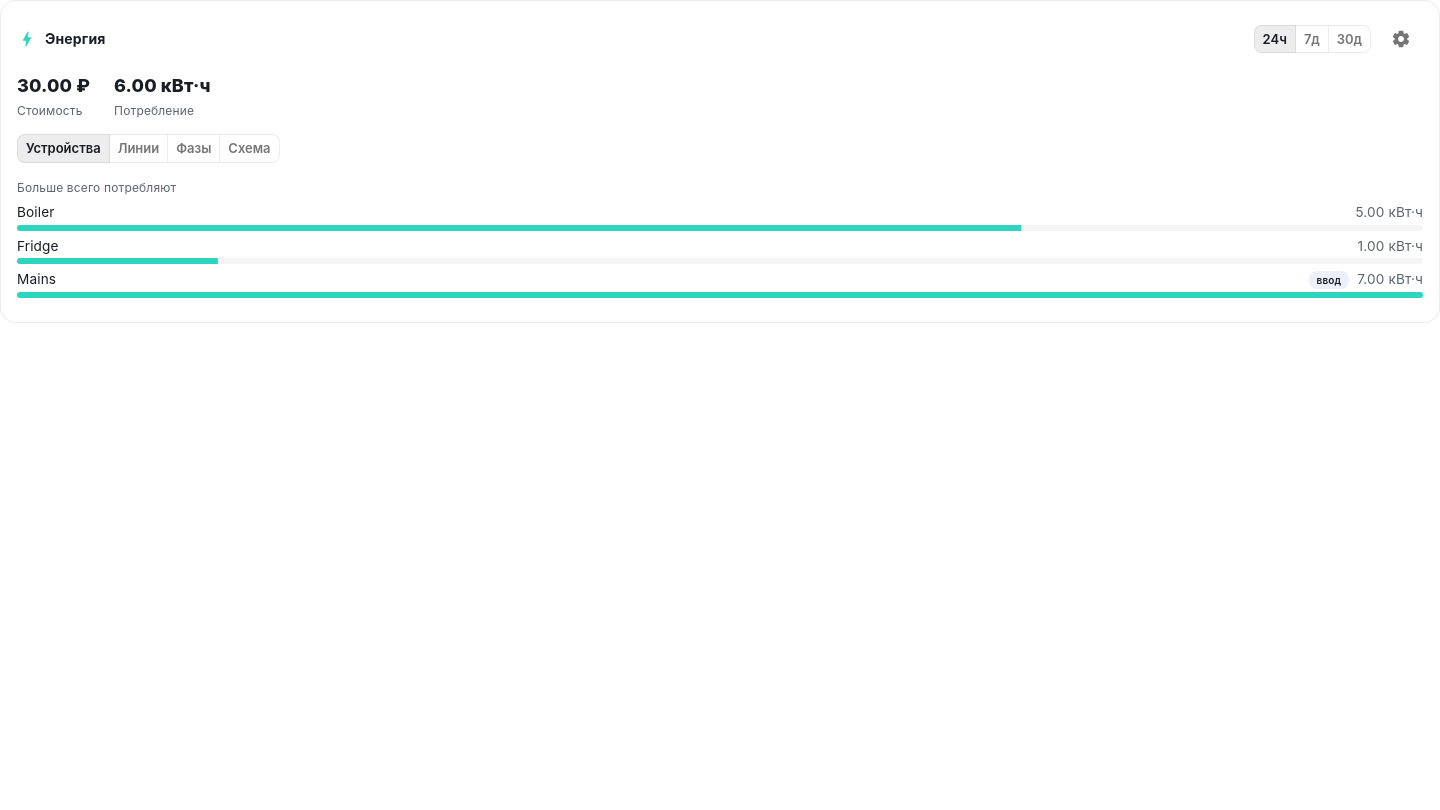
it: EnergyTile › offers the sunburst scheme view once the topology exists
The image size is (1440, 810).
What coordinates should you click on to do the following:
click the button "Схема"
I would click on:
 (249, 149)
Its box is [219,134,280,163].
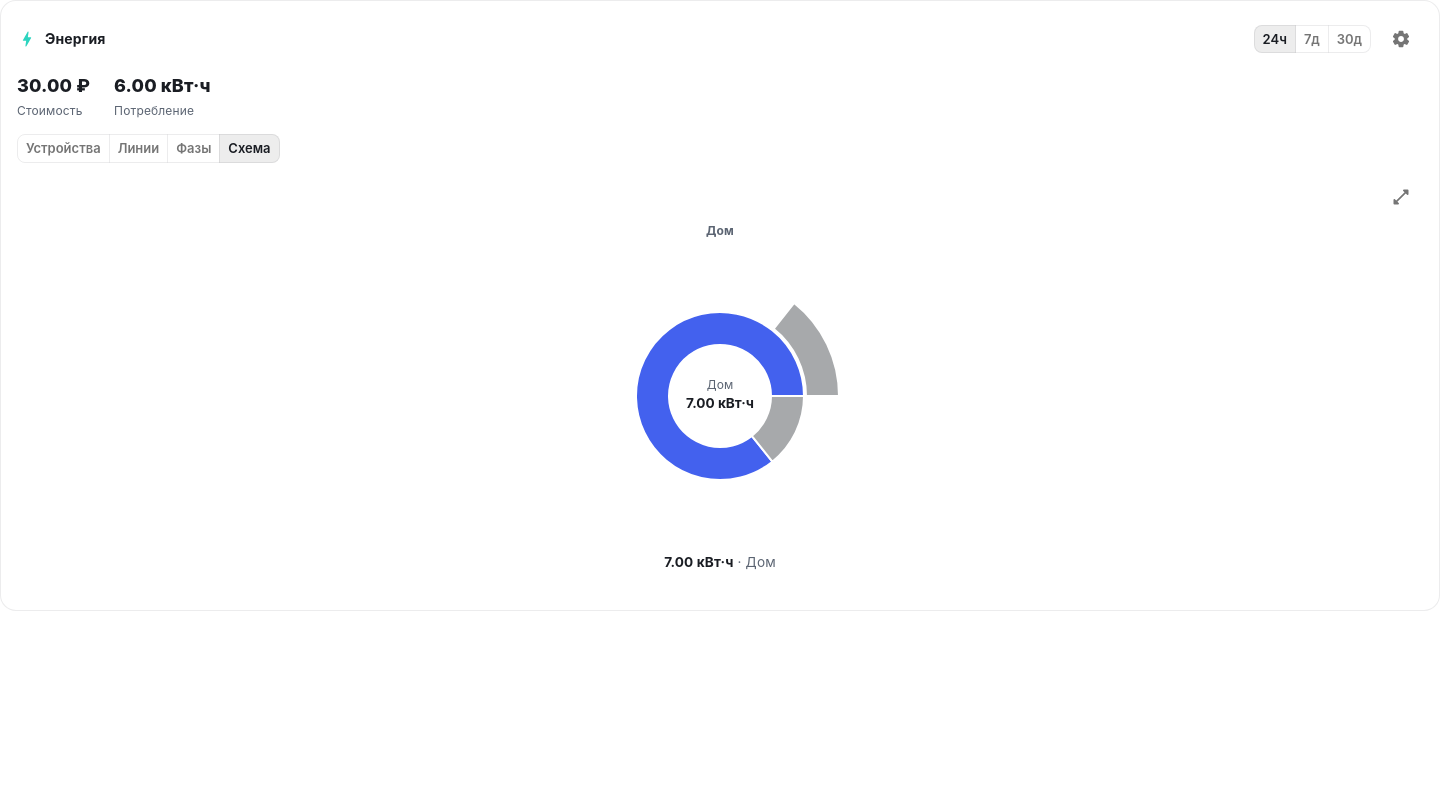
expect the button named "Развернуть схему" is shown: met, box [1379,175,1423,219]
